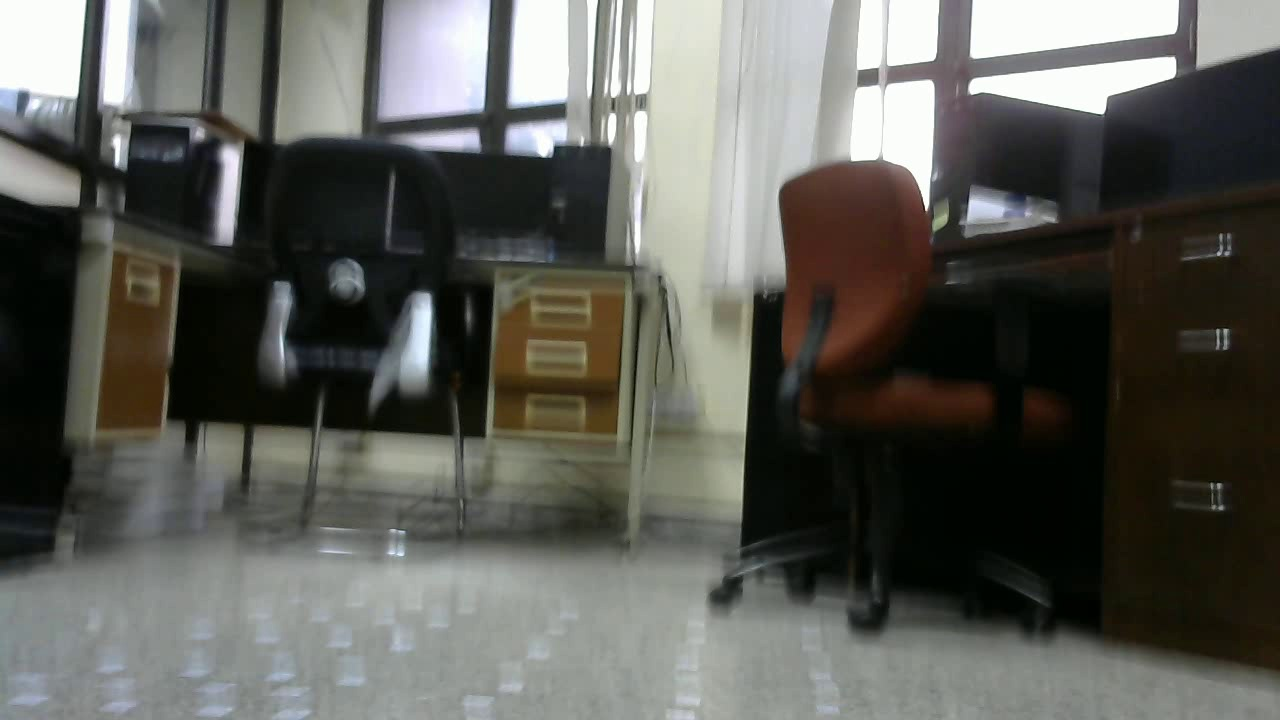chair: (700, 155, 1060, 642), (252, 132, 471, 548)
